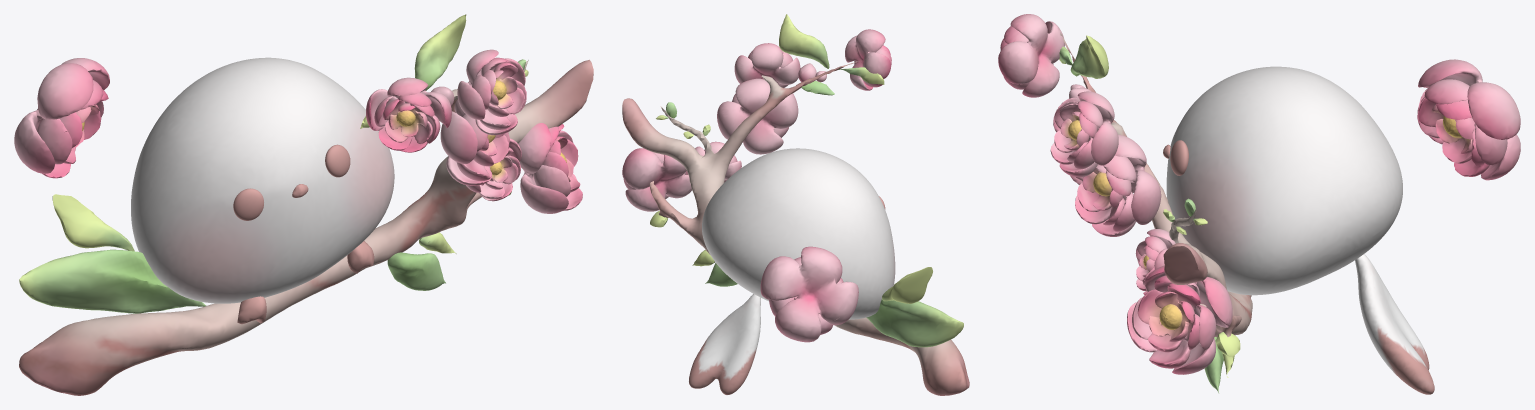
The model's file is white_bird.glb.
3 renders of one model, left to right at view 1: azimuth 30°, elevation 25°; view 2: azimuth 150°, elevation 25°; view 3: azimuth 270°, elevation 25°, orthographic. The views are drawn at different scales.
Parts seen in each view (by area): view 1: Object_3, Object_17, Object_34; view 2: Object_3, Object_17; view 3: Object_3, Object_17, Object_34.
Part boxes in pixels (bbox=[...]): Object_3: bbox=[19, 14, 593, 395]; Object_17: bbox=[14, 49, 582, 213]; Object_34: bbox=[233, 144, 374, 324]; Object_3: bbox=[622, 14, 969, 395]; Object_17: bbox=[622, 29, 891, 342]; Object_3: bbox=[1059, 32, 1434, 394]; Object_17: bbox=[998, 14, 1520, 374]; Object_34: bbox=[1163, 140, 1188, 175].
Size of the model in its own units: 4.29 by 2.96 by 3.68.
